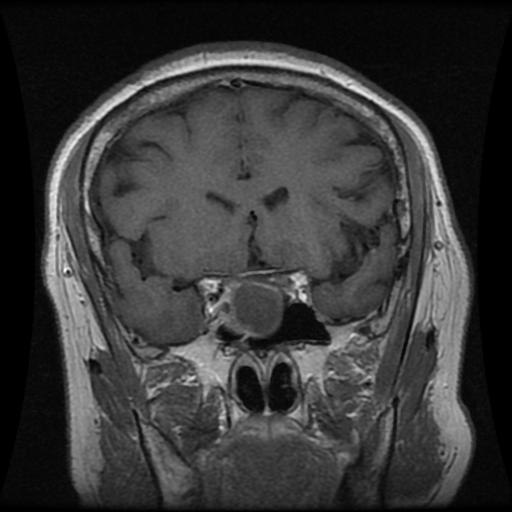Pituirity_tumour: (219, 278, 283, 338)
